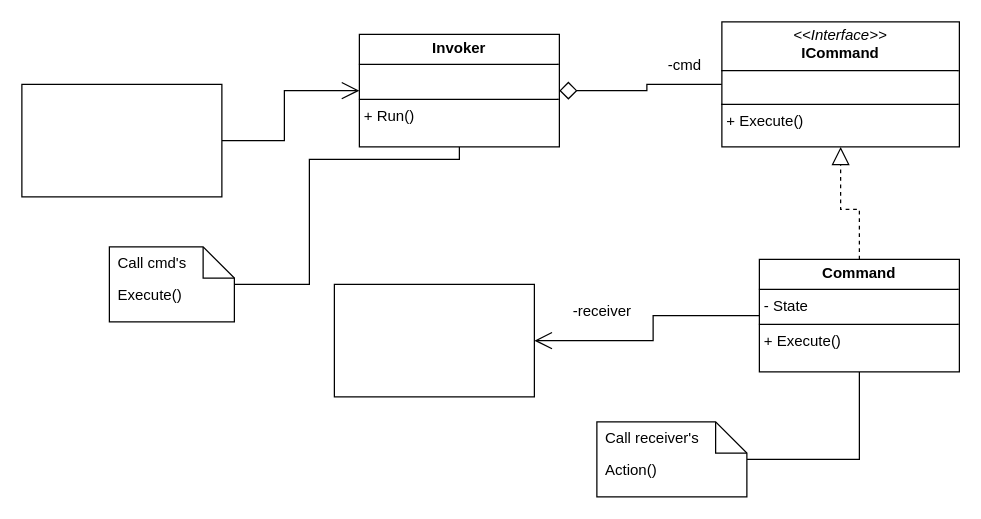
Some shapes in this 981 by 519 pixel diagram are drawn without their labels. Here are the shapes that lost their labels. From the top down, the box of each, then its label:
(21, 83, 222, 197): Client
(333, 283, 534, 397): Receiver + Action()
